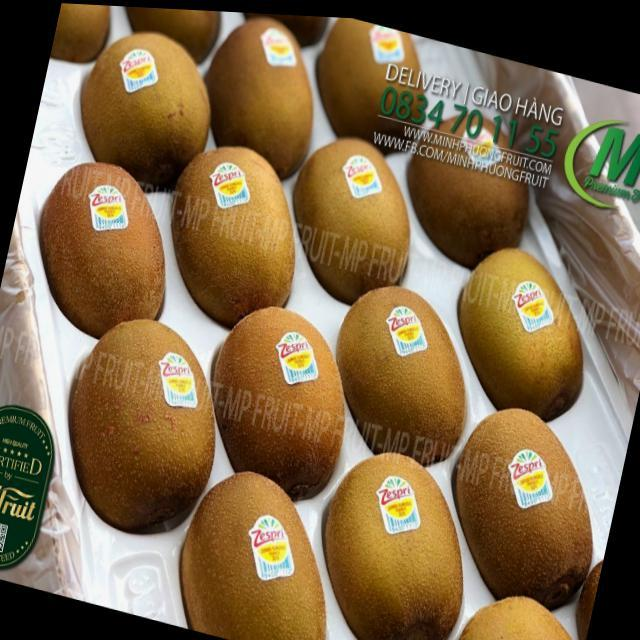kiwi: (45, 294, 241, 547), (296, 431, 492, 640), (442, 381, 619, 611), (16, 136, 198, 358), (169, 457, 362, 640), (319, 270, 491, 463), (203, 292, 369, 489), (445, 230, 607, 419), (279, 111, 436, 298), (158, 141, 310, 325), (393, 94, 543, 256), (33, 7, 152, 164), (310, 14, 443, 142), (444, 575, 594, 640), (249, 16, 280, 162)
